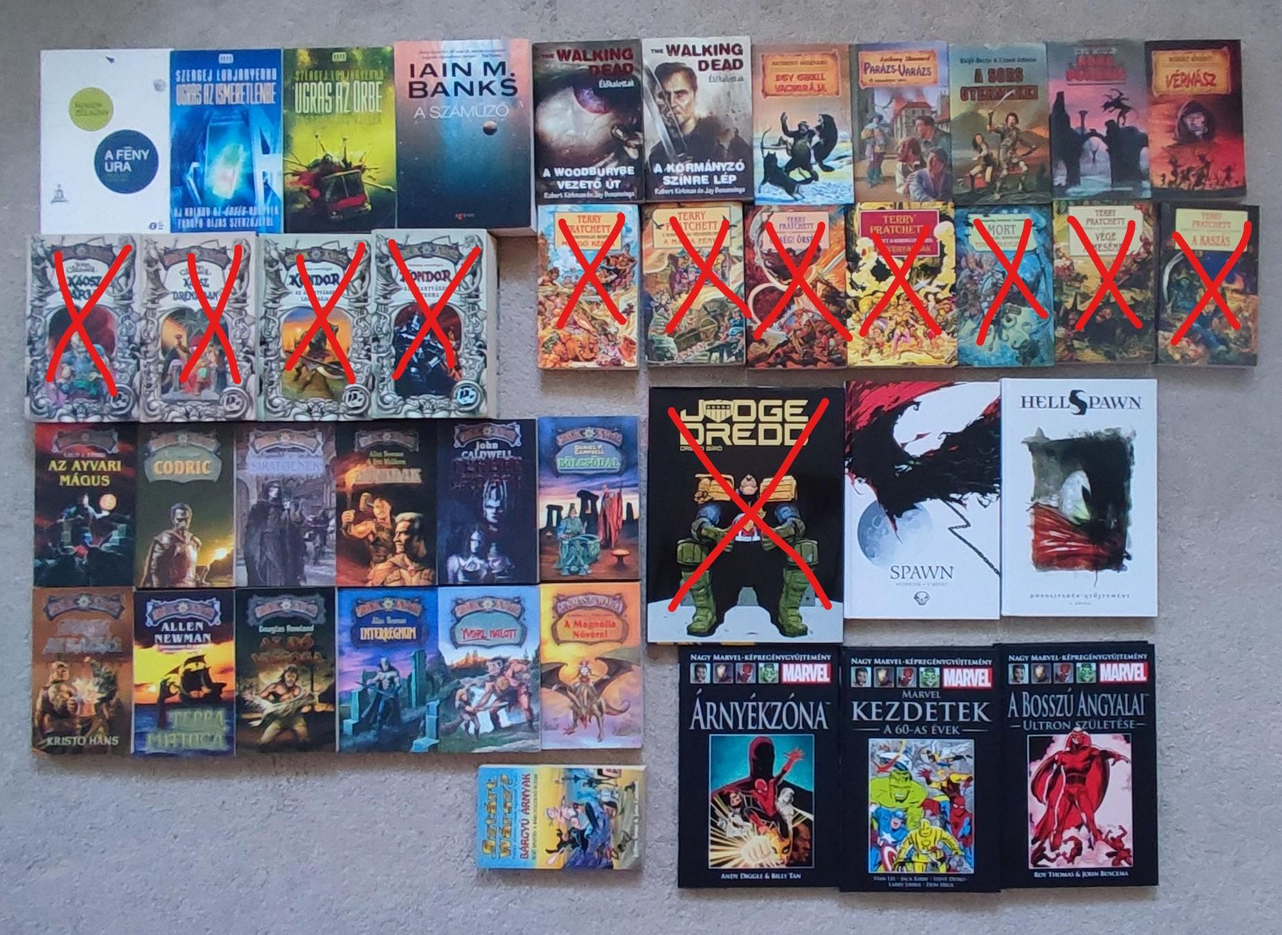comic: (647, 387, 844, 643), (839, 645, 1006, 893), (677, 647, 841, 888), (999, 642, 1157, 888), (1002, 378, 1157, 617), (845, 382, 1000, 619), (395, 38, 533, 234), (40, 49, 170, 235), (371, 230, 497, 418), (139, 234, 258, 422), (258, 235, 376, 421), (168, 48, 284, 234), (25, 235, 139, 421), (283, 46, 396, 233), (531, 39, 646, 204), (642, 36, 754, 203), (638, 202, 749, 368), (742, 203, 851, 370), (846, 202, 956, 366), (337, 587, 444, 753), (133, 587, 237, 756), (475, 765, 644, 869), (1046, 37, 1152, 202), (539, 581, 643, 749), (31, 587, 134, 756), (435, 419, 539, 585), (436, 586, 540, 752), (536, 203, 640, 368), (1155, 202, 1260, 365), (947, 42, 1052, 205), (333, 422, 436, 587), (537, 416, 639, 582), (1053, 200, 1157, 362), (751, 43, 854, 206), (33, 424, 136, 587), (134, 424, 235, 589), (235, 423, 335, 587), (235, 588, 335, 752), (853, 41, 954, 203), (1145, 38, 1245, 200), (954, 206, 1054, 367)
